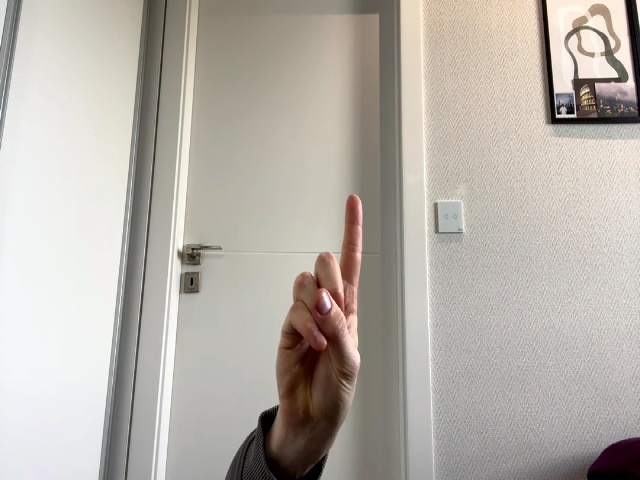Z: (276, 195, 362, 419)
